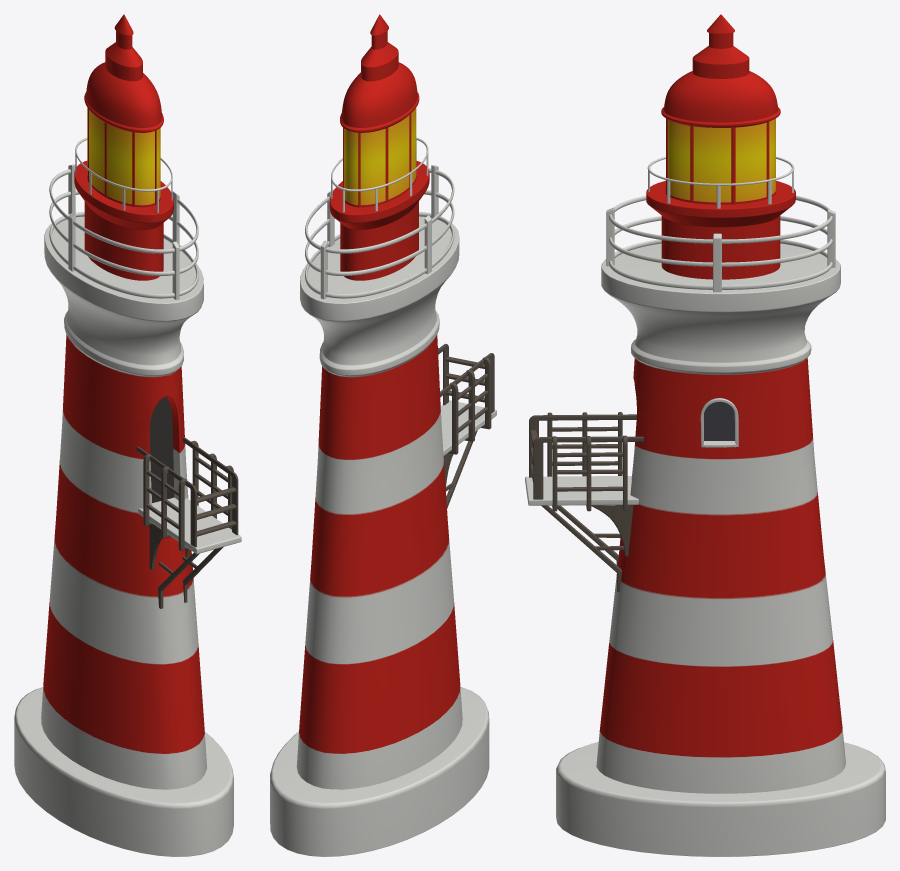
The model's file is lighthouse.glb.
The picture shows the model from 3 angles, left to right: view 1: azimuth 30°, elevation 25°; view 2: azimuth 150°, elevation 25°; view 3: azimuth 270°, elevation 25°; orthographic projection. The views are drawn at different scales.
Visible parts, largest first — view 1: node_id60; view 2: node_id60; view 3: node_id60.
Part boxes in pixels (x1,y1,x2,y2): node_id60: (14,14,241,856); node_id60: (270,14,496,856); node_id60: (525,14,885,856).
Bounding box in the file's own units: 0.0936 × 0.4654 × 0.1889.
1 material, 1 textured.
